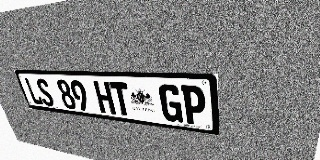8: (55, 79, 77, 110)
9: (68, 80, 91, 111)
G: (158, 84, 183, 123)
H: (93, 81, 116, 114)
L: (24, 78, 44, 105)
P: (181, 85, 206, 126)
S: (34, 78, 56, 107)
T: (109, 82, 133, 117)
